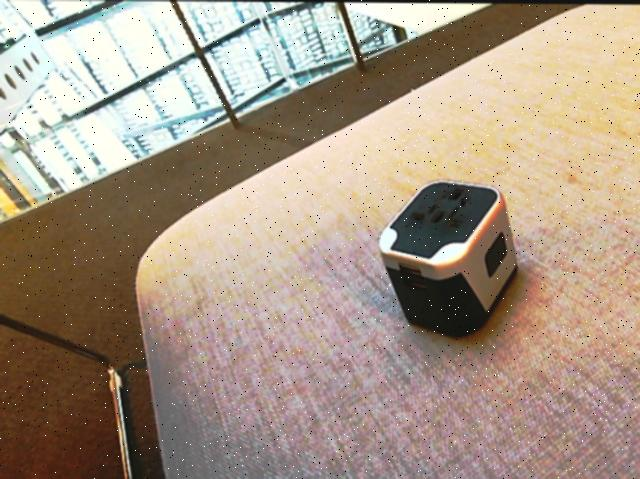adapter: (377, 178, 517, 337)
